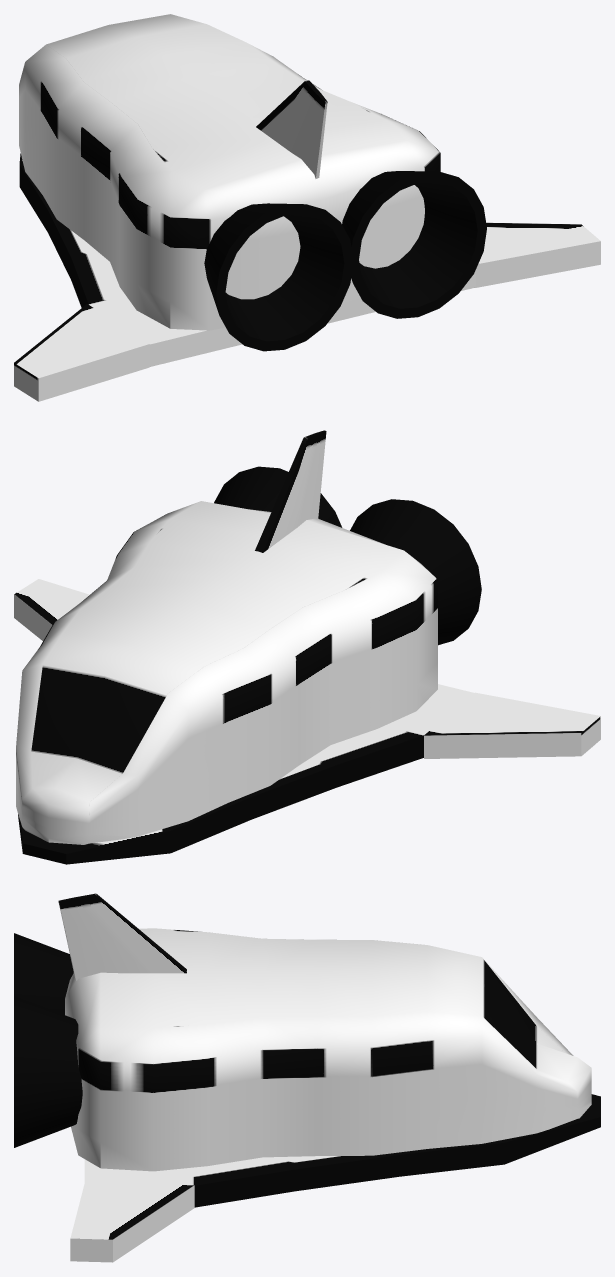
File: SpaceShuttle.fbx
3 renders of one model, top to bottom at view 1: azimuth 30°, elevation 25°; view 2: azimuth 150°, elevation 25°; view 3: azimuth 270°, elevation 25°, orthographic. The views are drawn at different scales.
Visible parts, largest first — view 1: polySurface5; view 2: polySurface5; view 3: polySurface5.
Part boxes in pixels (x1=…): polySurface5: x1=14, y1=14, x2=600, y2=401; polySurface5: x1=14, y1=430, x2=600, y2=864; polySurface5: x1=14, y1=893, x2=600, y2=1262.
Size of the model in its own units: 18.18 by 7.43 by 16.86.
Materials: 6 (5 with a texture image).
